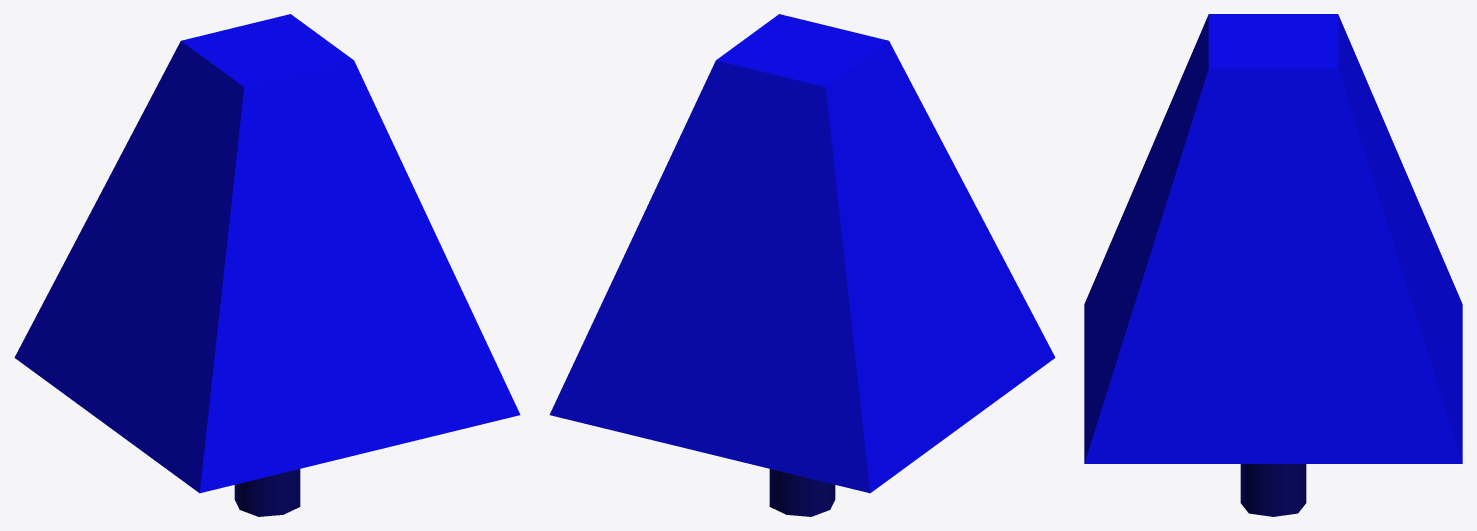
Rendered from tree.fbx.
The picture shows the model from 3 angles, left to right: view 1: azimuth 30°, elevation 25°; view 2: azimuth 150°, elevation 25°; view 3: azimuth 270°, elevation 25°; orthographic projection. The views are drawn at different scales.
Parts seen in each view (by area): view 1: tree_hat, tree; view 2: tree_hat, tree; view 3: tree_hat, tree.
Boxes of the visible parts, x1,y1,x2,y2 form: tree_hat: (14,14,520,493); tree: (234,469,300,516); tree_hat: (549,14,1055,493); tree: (769,469,835,516); tree_hat: (1084,14,1462,463); tree: (1240,464,1306,516).
Size of the model in its own units: 0.0419 by 0.0565 by 0.0419.
